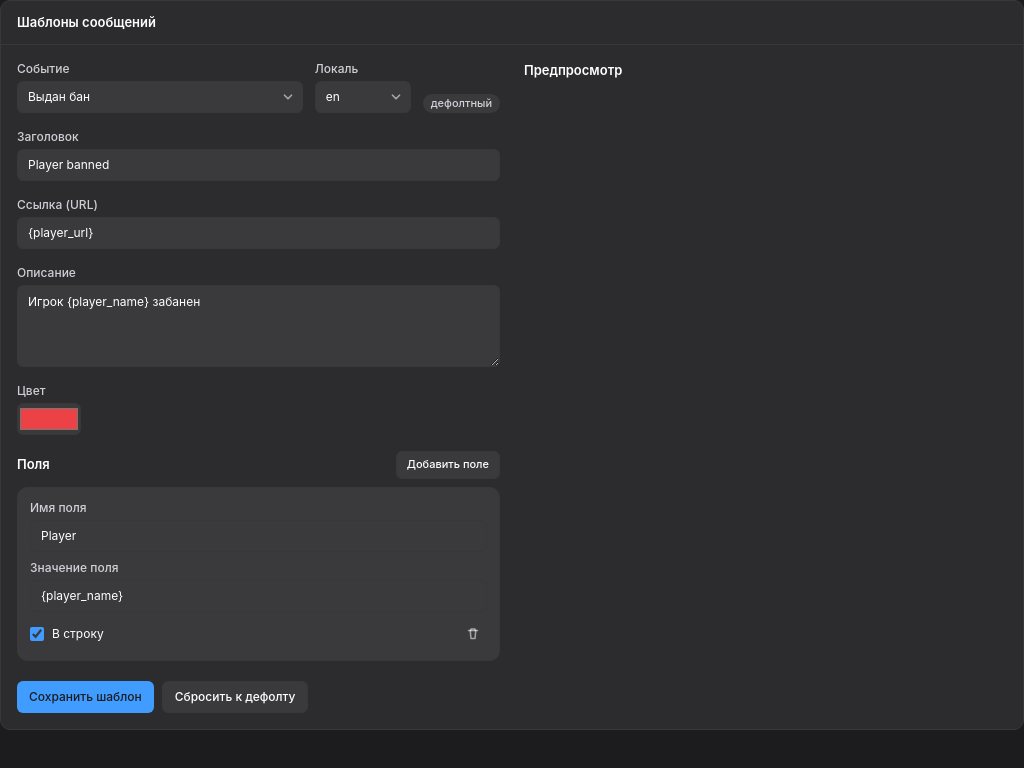
Test: DiscordTemplatesSection › resets to the default template through the reset route
Expected: the field labelled "Заголовок" is shown, left=17, top=149, right=500, bottom=181
Click the button "Сбросить к дефолту" at point(235, 697), box left=162, top=681, right=308, bottom=713
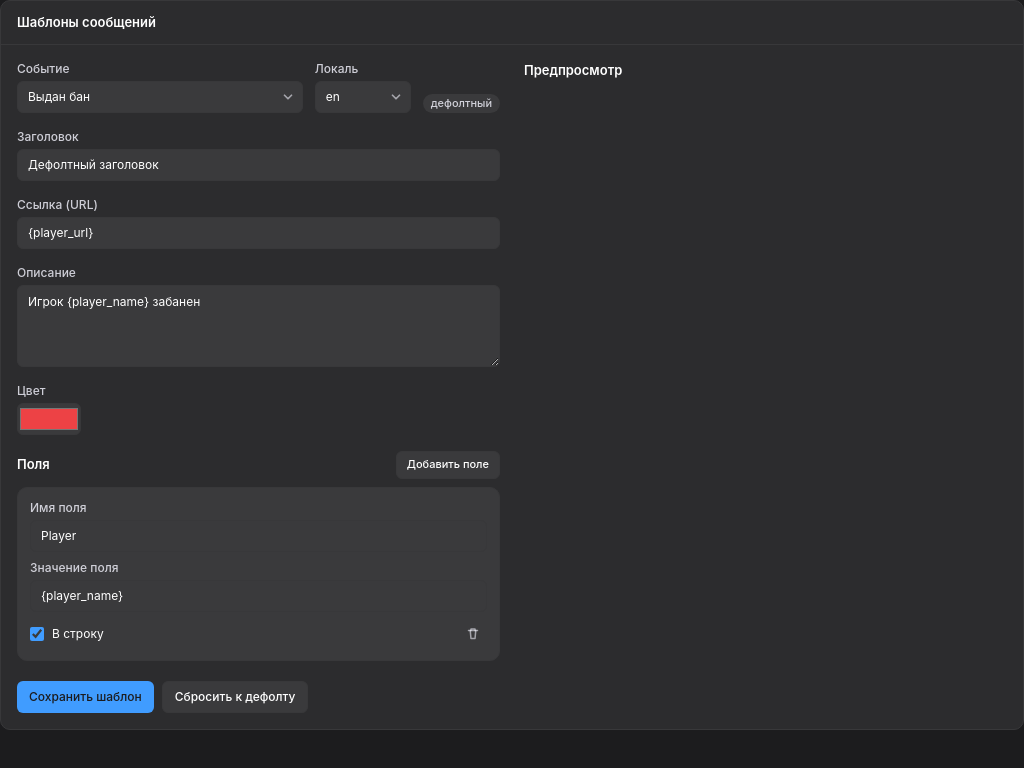
Expected: the field labelled "Заголовок" holds "Дефолтный заголовок", left=17, top=149, right=500, bottom=181
